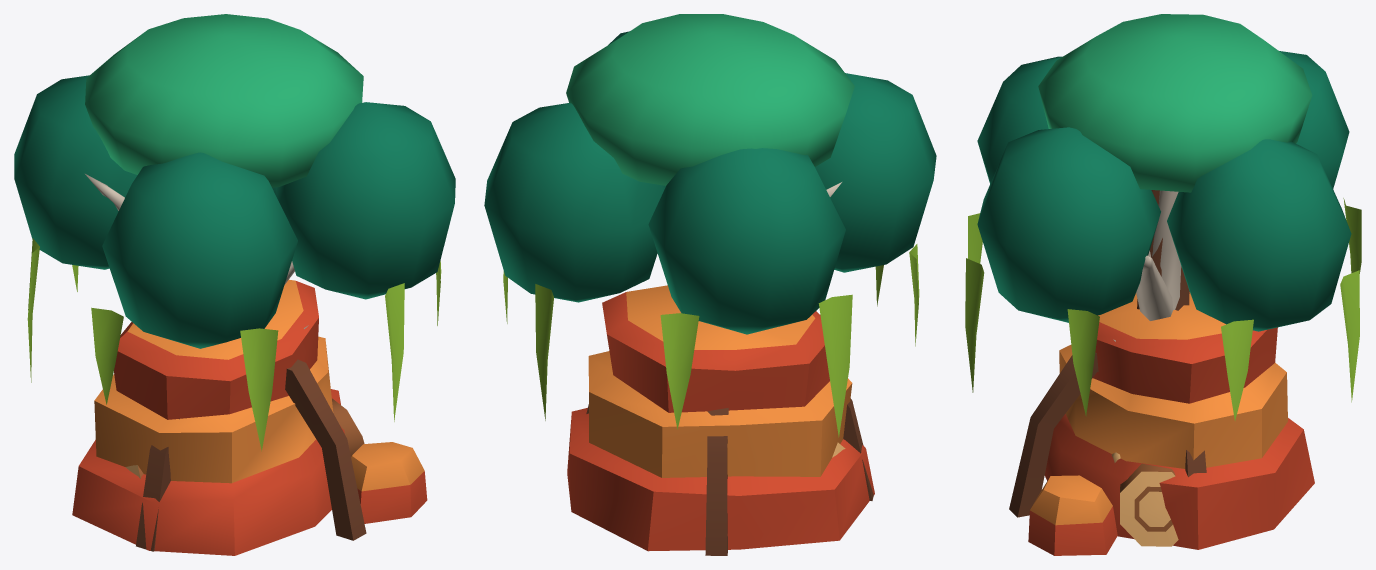
File: wilds.glb
The picture shows the model from 3 angles, left to right: view 1: azimuth 30°, elevation 25°; view 2: azimuth 150°, elevation 25°; view 3: azimuth 270°, elevation 25°; orthographic projection. The views are drawn at different scales.
Parts seen in each view (by area): view 1: tree_swamp, rock_red, log; view 2: tree_swamp, rock_red; view 3: tree_swamp, rock_red, log, tree_dead.
Boxes of the visible parts, left/top/right/bottom form: tree_swamp: left=14, top=14, right=455, bottom=551; rock_red: left=72, top=279, right=427, bottom=555; log: left=125, top=398, right=364, bottom=478; tree_swamp: left=484, top=14, right=936, bottom=555; rock_red: left=567, top=285, right=874, bottom=551; tree_swamp: left=965, top=14, right=1361, bottom=517; rock_red: left=1028, top=292, right=1314, bottom=555; log: left=1111, top=452, right=1178, bottom=546; tree_dead: left=1113, top=190, right=1181, bottom=341.
Bounding box in the file's own units: 2.72 × 3.41 × 2.72.
